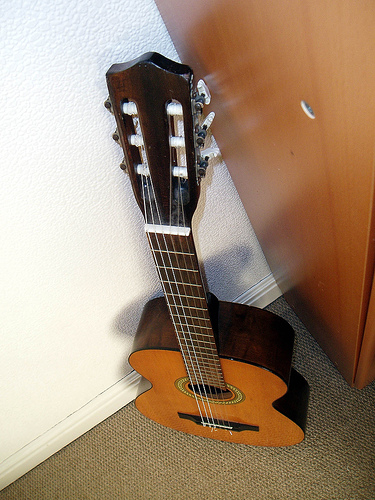guitar: (104, 51, 311, 451)
